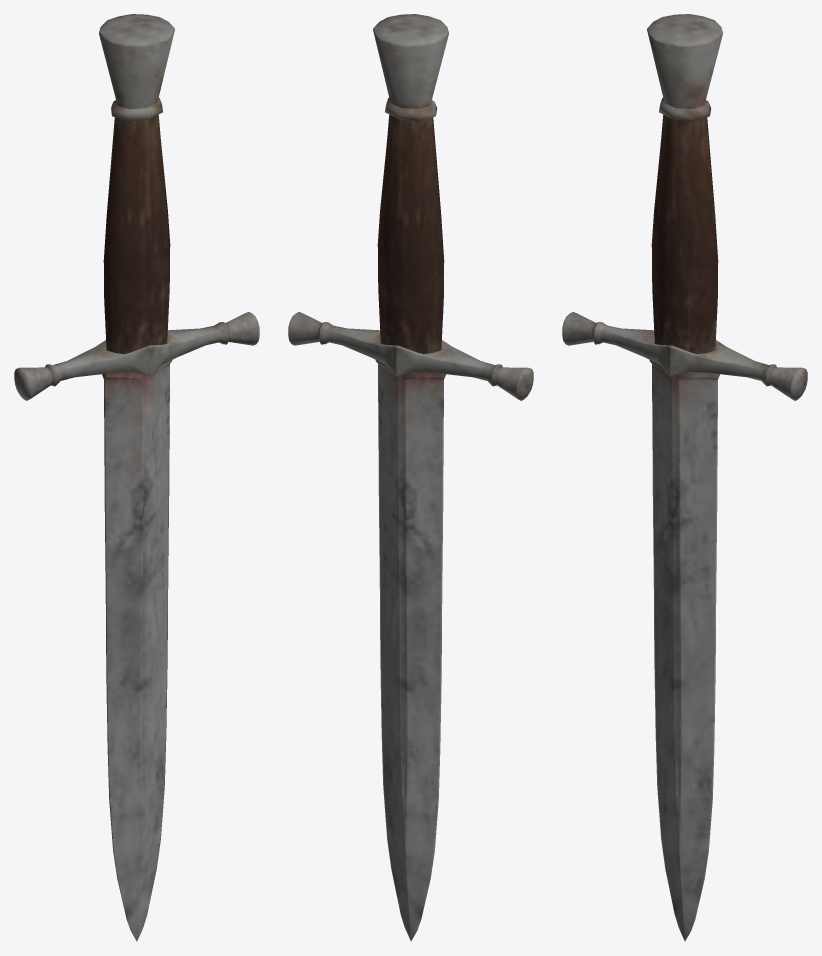
The model's file is weapon-wp_a_0100.glb.
3 renders of one model, left to right at view 1: azimuth 30°, elevation 25°; view 2: azimuth 150°, elevation 25°; view 3: azimuth 330°, elevation 25°, orthographic.
Visible parts, largest first — view 1: wp_a_0100_mesh; view 2: wp_a_0100_mesh; view 3: wp_a_0100_mesh.
Part boxes in pixels (x1=…): wp_a_0100_mesh: x1=14, y1=14, x2=259, y2=941; wp_a_0100_mesh: x1=288, y1=14, x2=533, y2=941; wp_a_0100_mesh: x1=562, y1=14, x2=807, y2=941.
Bounding box in the file's own units: 0.1455 × 0.5375 × 0.0397.
Materials: 1 (1 with a texture image).
